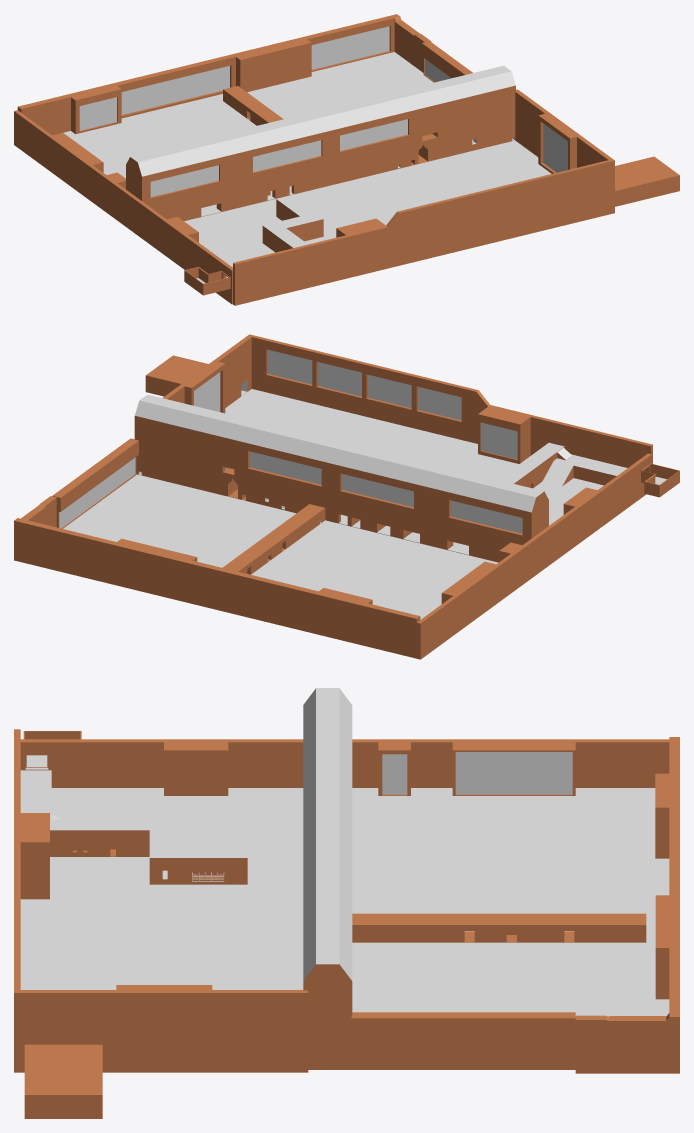
The model's file is CityLiveSector2.fbx.
3 views of the same model, one above another, from view 1: azimuth 30°, elevation 25°; view 2: azimuth 150°, elevation 25°; view 3: azimuth 270°, elevation 25° (orthographic). The views are drawn at different scales.
Visible parts, largest first — view 1: Map; view 2: Map; view 3: Map.
Part boxes in pixels (box(x1,y1,x2,y2)): Map: box(14, 14, 679, 305); Map: box(14, 334, 679, 659); Map: box(14, 688, 679, 1118).
Size of the model in its own units: 25522 by 3573 by 20384.
